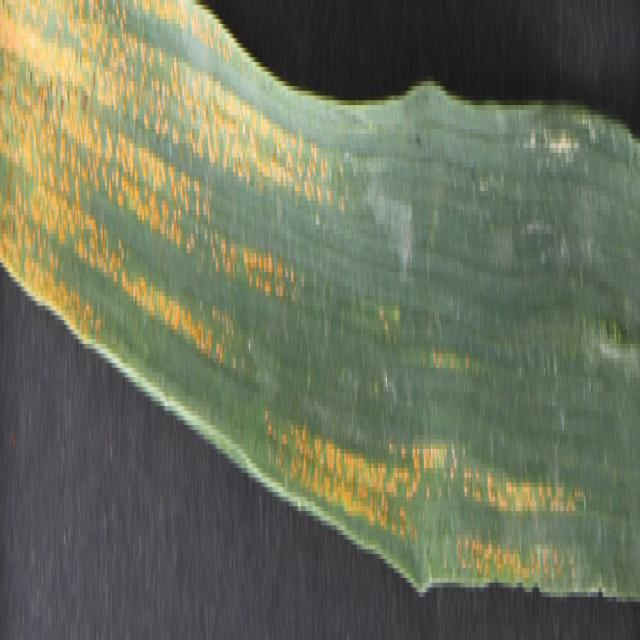leaf rust: (1, 5, 330, 320), (268, 344, 590, 621)
